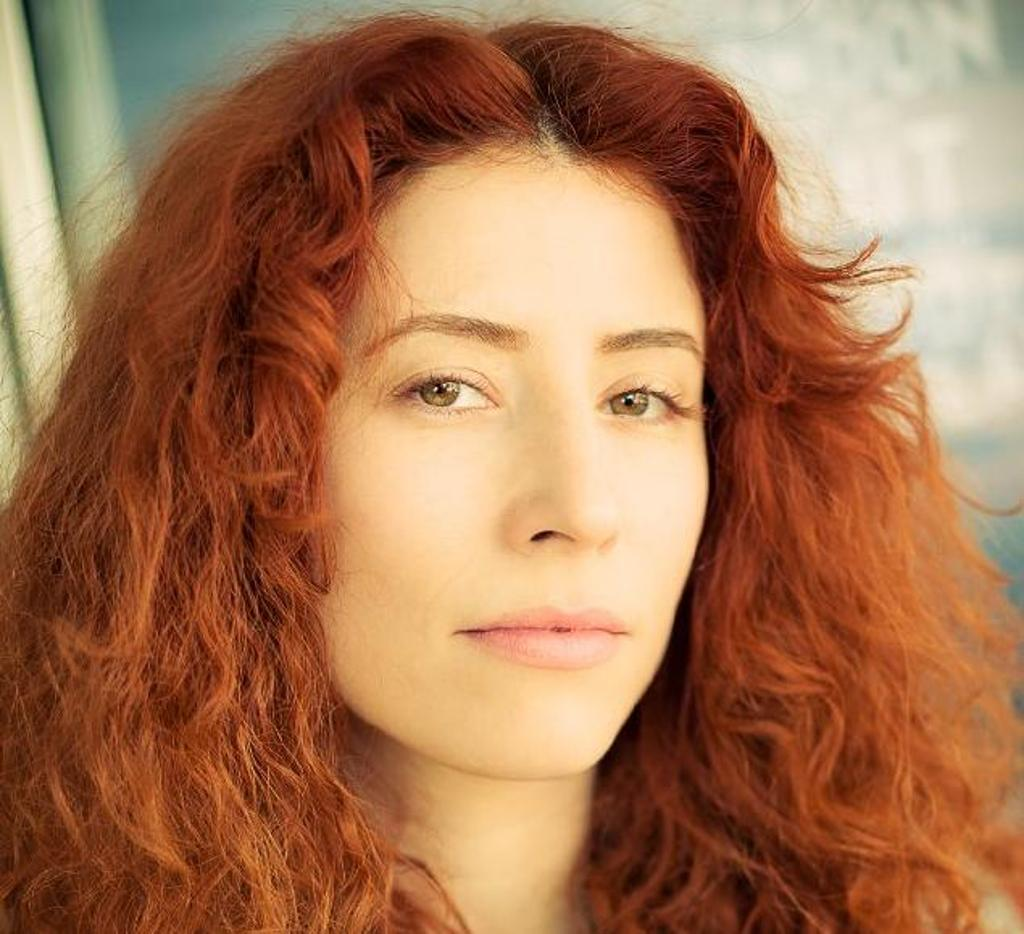face: (266, 152, 710, 774)
